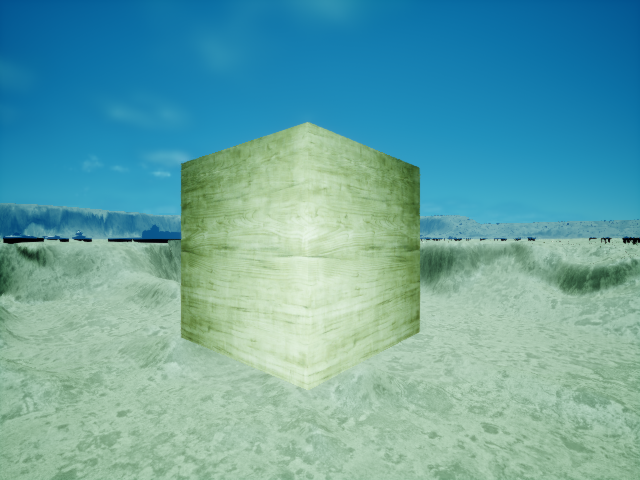Cube: (168, 115, 433, 398)
